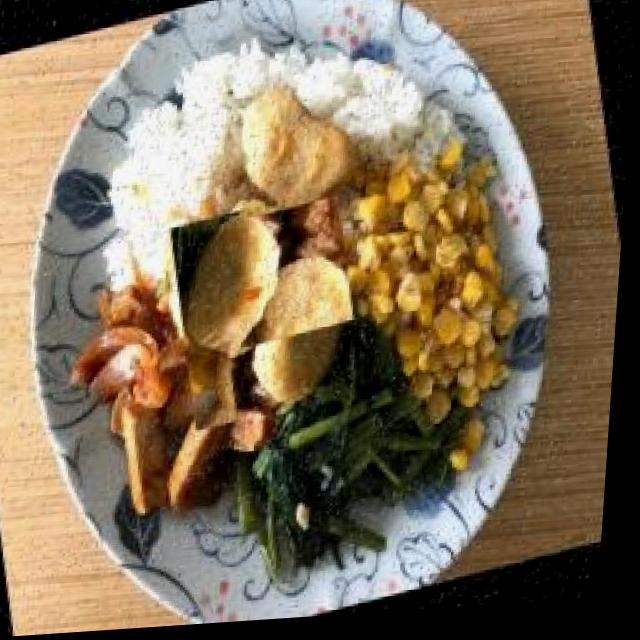chicken_nuggets: (165, 189, 382, 438), (233, 80, 368, 222)
rice: (78, 43, 273, 290)
water_spinach: (222, 306, 476, 587)
